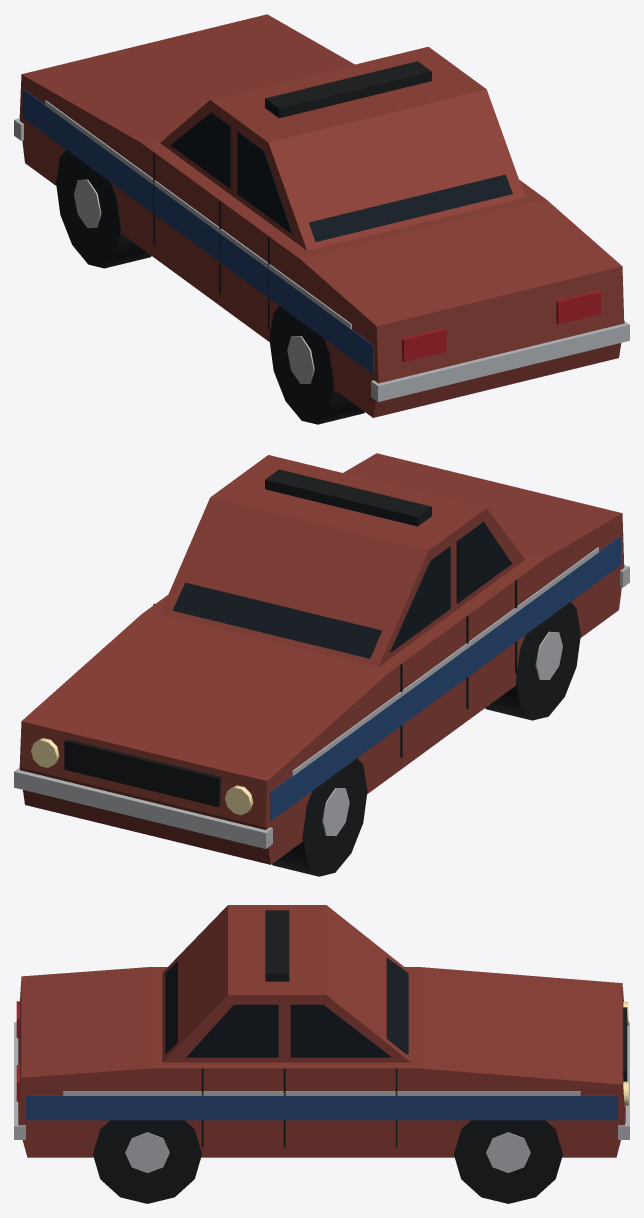
The model's file is car-police.glb.
3 views of the same model, one above another, from view 1: azimuth 30°, elevation 25°; view 2: azimuth 150°, elevation 25°; view 3: azimuth 270°, elevation 25° (orthographic). The views are drawn at different scales.
Parts seen in each view (by area): view 1: 01_paint0, 00_#1e2022_noshadow_r320, 04_#2c4a7a_noshadow_r320, 02_#1a2026_noshadow_r320, 03_#b8bcc0_noshadow_r110, 06_#a3262c_noshadow_r110; view 2: 01_paint0, 00_#1e2022_noshadow_r320, 02_#1a2026_noshadow_r320, 04_#2c4a7a_noshadow_r320, 03_#b8bcc0_noshadow_r110, 05_#ffe9b0_noshadow; view 3: 01_paint0, 00_#1e2022_noshadow_r320, 04_#2c4a7a_noshadow_r320, 02_#1a2026_noshadow_r320, 03_#b8bcc0_noshadow_r110.
Boxes of the visible parts, x1,y1,x2,y2 form: 01_paint0: (19, 14, 624, 417); 00_#1e2022_noshadow_r320: (56, 61, 431, 424); 04_#2c4a7a_noshadow_r320: (23, 89, 373, 373); 02_#1a2026_noshadow_r320: (170, 112, 512, 241); 03_#b8bcc0_noshadow_r110: (14, 100, 629, 401); 06_#a3262c_noshadow_r110: (402, 290, 600, 362); 01_paint0: (19, 453, 624, 864); 00_#1e2022_noshadow_r320: (64, 469, 580, 876); 02_#1a2026_noshadow_r320: (172, 522, 511, 658); 04_#2c4a7a_noshadow_r320: (270, 536, 620, 820); 03_#b8bcc0_noshadow_r110: (14, 547, 629, 848); 05_#ffe9b0_noshadow: (31, 738, 253, 815); 01_paint0: (18, 905, 625, 1157); 00_#1e2022_noshadow_r320: (93, 910, 627, 1203); 04_#2c4a7a_noshadow_r320: (26, 1095, 617, 1120); 02_#1a2026_noshadow_r320: (165, 957, 408, 1057); 03_#b8bcc0_noshadow_r110: (14, 1022, 629, 1172).
Bounding box in the file's own units: 1.65 × 1.56 × 4.13.
